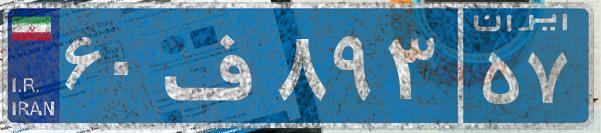0: (110, 28, 158, 105)
3: (385, 28, 445, 110)
5: (475, 38, 525, 113)
6: (57, 26, 110, 107)
7: (525, 38, 570, 115)
8: (273, 28, 330, 110)
9: (330, 28, 385, 110)
ف: (158, 15, 273, 115)
